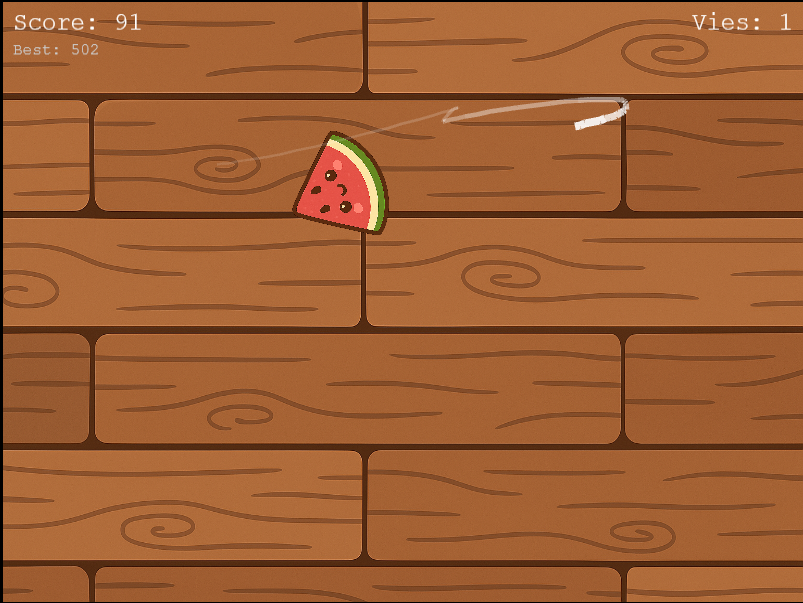fruit: (290, 127, 397, 243)
